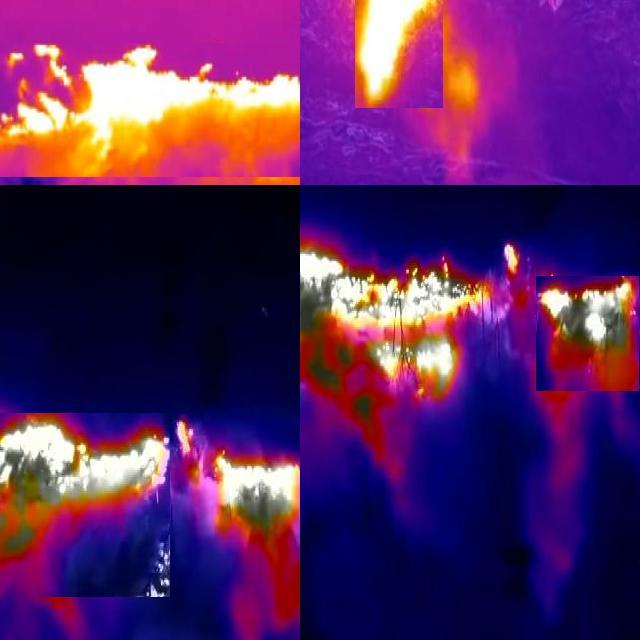fire: (301, 238, 522, 423), (1, 43, 301, 177), (1, 413, 170, 597), (172, 413, 301, 551), (536, 276, 639, 391), (355, 1, 443, 108)
